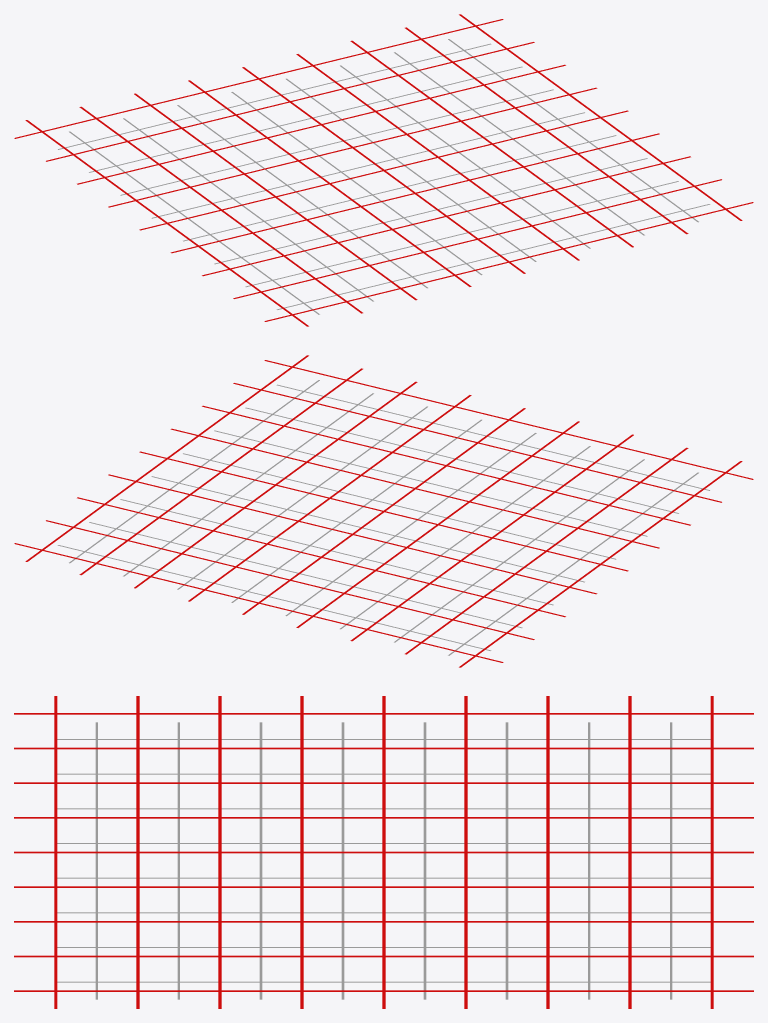
3 renders of one model, top to bottom at view 1: azimuth 30°, elevation 25°; view 2: azimuth 150°, elevation 25°; view 3: azimuth 270°, elevation 25°, orthographic. The views are drawn at different scales.
Size of the model in its own units: 902 by 11.3 by 902.
